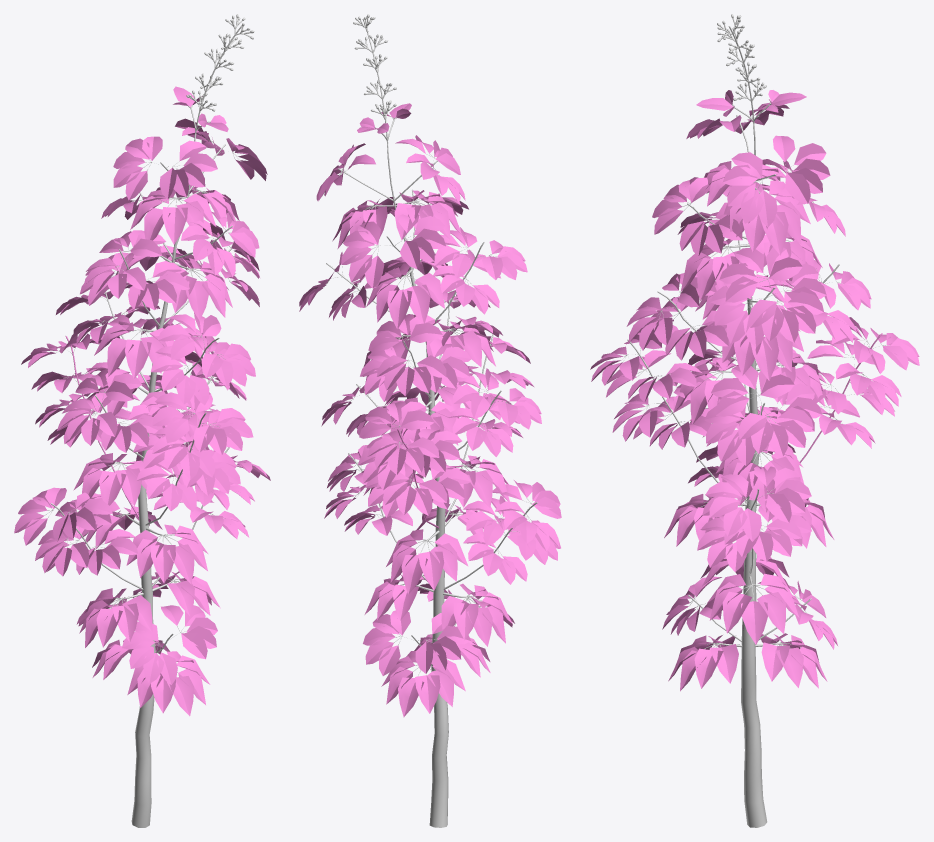
File: jinghua-02.FBX
3 renders of one model, left to right at view 1: azimuth 30°, elevation 25°; view 2: azimuth 150°, elevation 25°; view 3: azimuth 270°, elevation 25°, orthographic. The views are drawn at different scales.
Parts seen in each view (by area): view 1: GrowFX003; view 2: GrowFX003; view 3: GrowFX003.
Boxes of the visible parts, x1,y1,x2,y2 form: GrowFX003: (14, 14, 270, 827); GrowFX003: (299, 14, 561, 827); GrowFX003: (590, 14, 919, 827).
Bounding box in the file's own units: 38.62 × 121 × 42.36.
